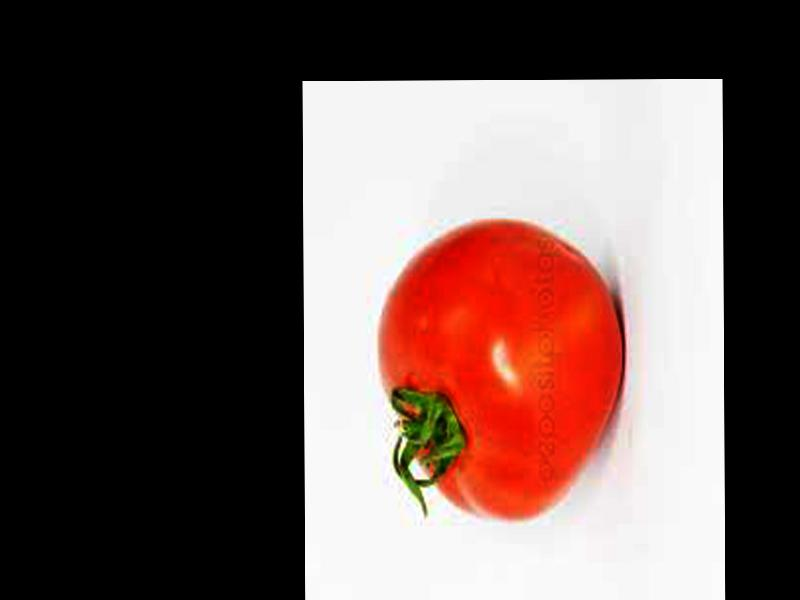Tomato: (373, 220, 623, 520)
